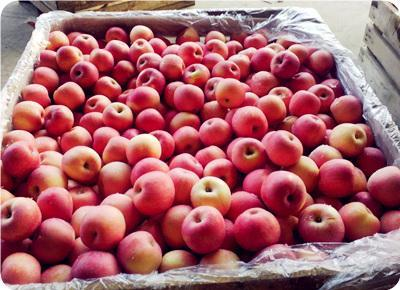apple: (74, 205, 126, 250), (231, 207, 279, 251), (116, 229, 162, 271), (182, 206, 225, 250), (297, 204, 344, 244), (132, 171, 175, 214), (261, 169, 303, 213), (1, 196, 41, 242), (60, 145, 101, 186), (189, 175, 230, 216), (328, 122, 373, 157), (35, 217, 73, 258), (338, 201, 379, 237), (317, 158, 355, 195), (228, 137, 267, 173), (366, 164, 400, 205), (265, 129, 302, 166), (96, 160, 131, 199), (4, 139, 39, 178), (203, 158, 240, 193), (231, 104, 267, 137), (125, 133, 161, 162), (11, 100, 43, 132), (271, 50, 302, 79), (214, 77, 245, 106), (289, 89, 320, 118), (173, 84, 204, 113), (100, 102, 132, 129), (307, 144, 341, 169)
